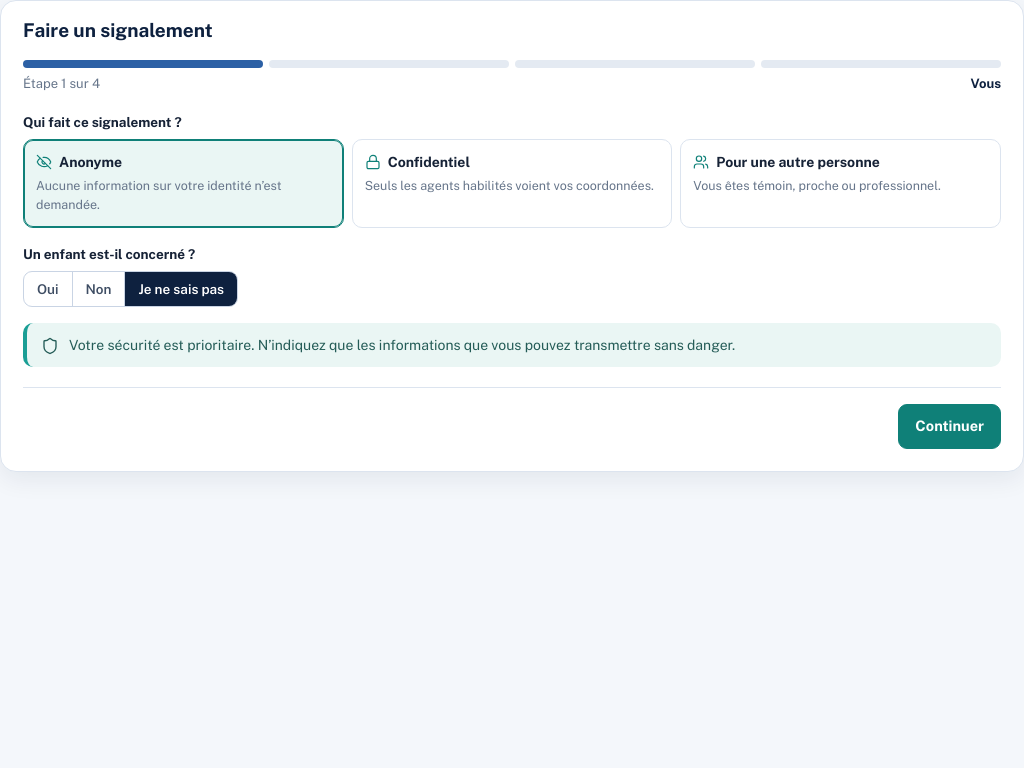
Test: formulaire de signalement › refuse de passer l’étape « situation » sans description
Click the button "Continuer" at (950, 427), box [898,404,1001,449]
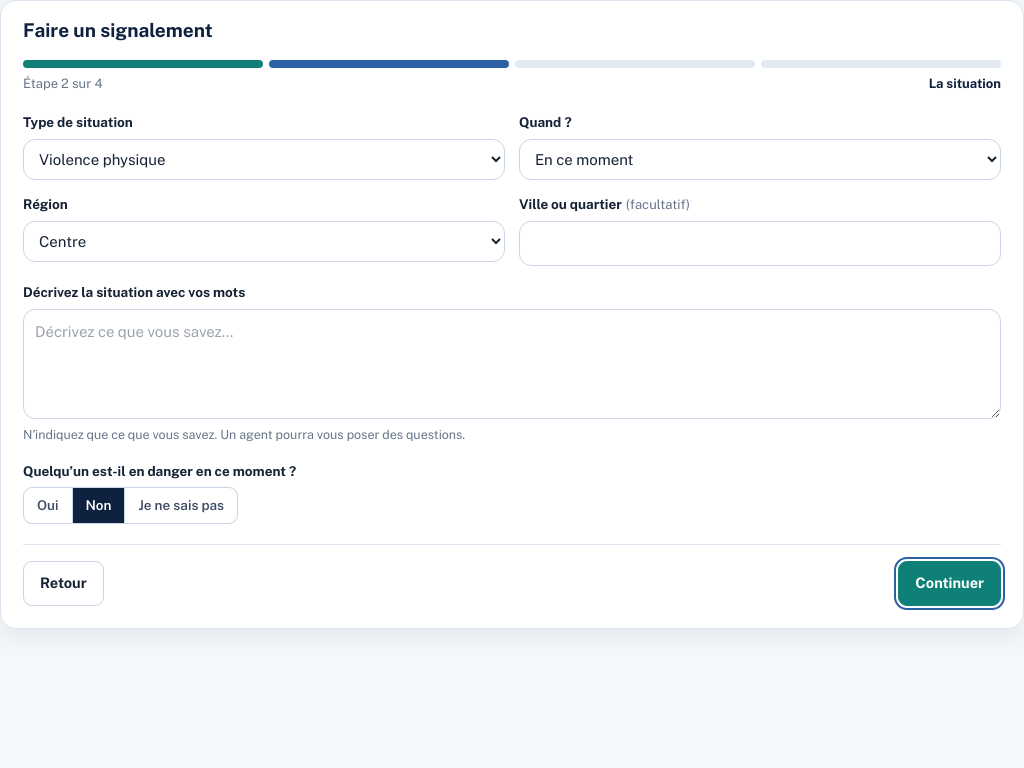
Click the button "Continuer" at (950, 584), box [898,561,1001,606]
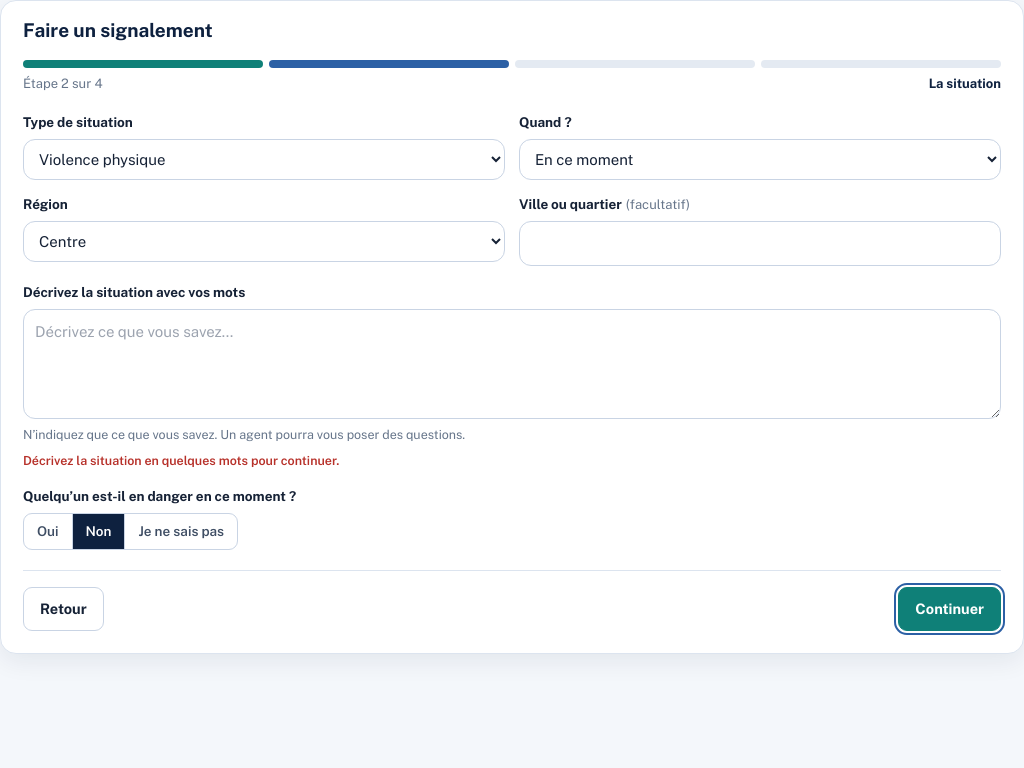
Check: the text "Étape 2 sur 4" is shown, box [23,74,103,94]
Check: the message reads "Décrivez la situation en quelques mots pour continuer.", box [23,452,339,468]
